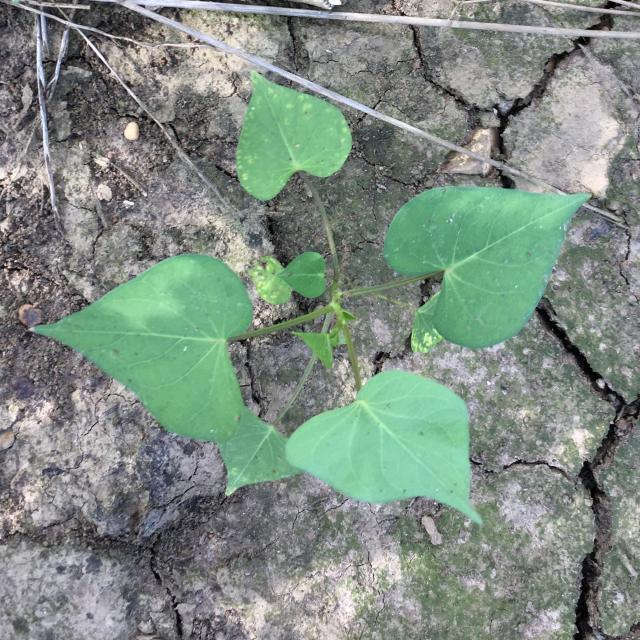MorningGlory: (30, 68, 592, 526)
